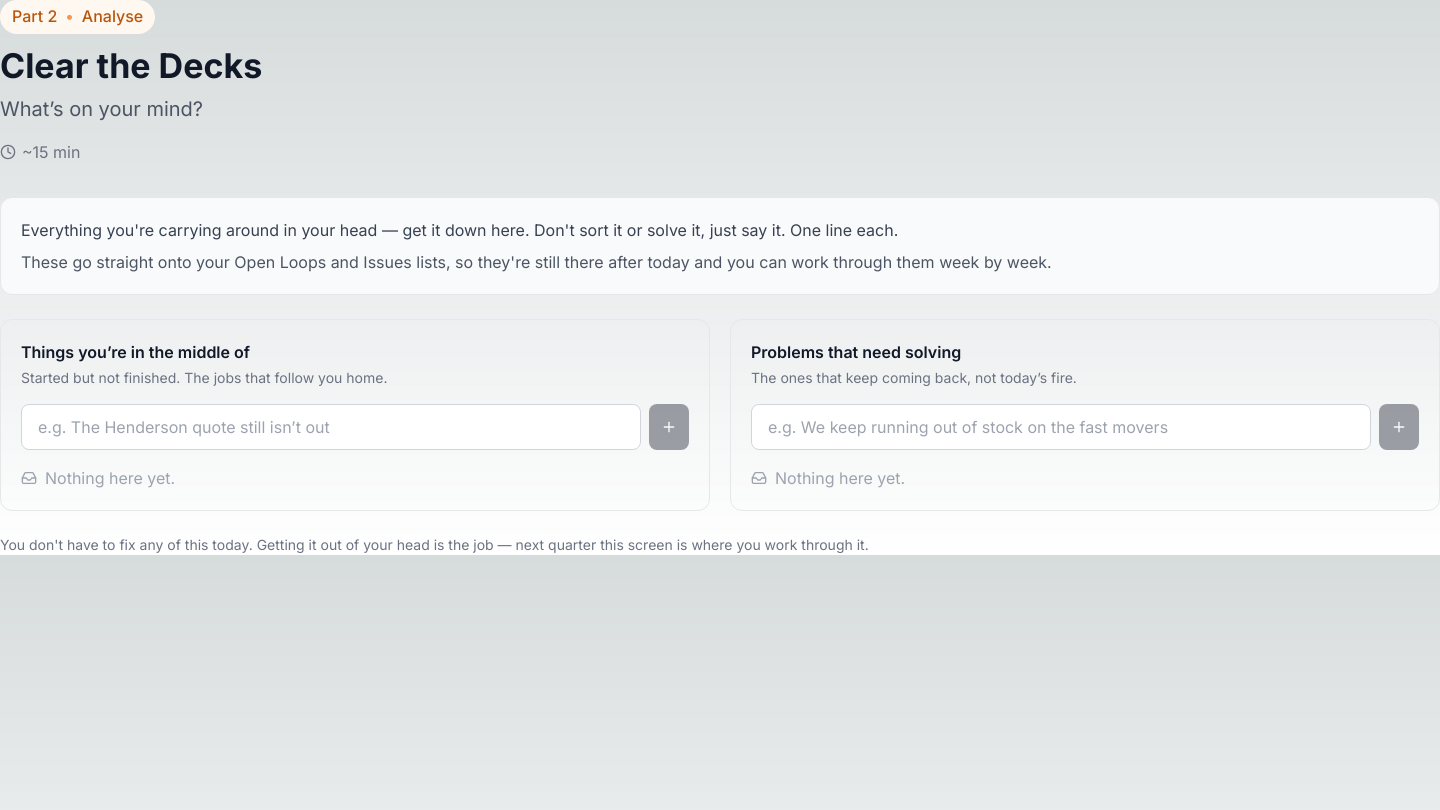
Test: step 5 on screen › keeps what they typed when the save fails, and says so
The width and height of the screenshot is (1440, 810).
Type "Something worth keeping" into the field with placeholder "e.g. The Henderson quote still isn’t out" at (331, 427), box left=21, top=404, right=641, bottom=450
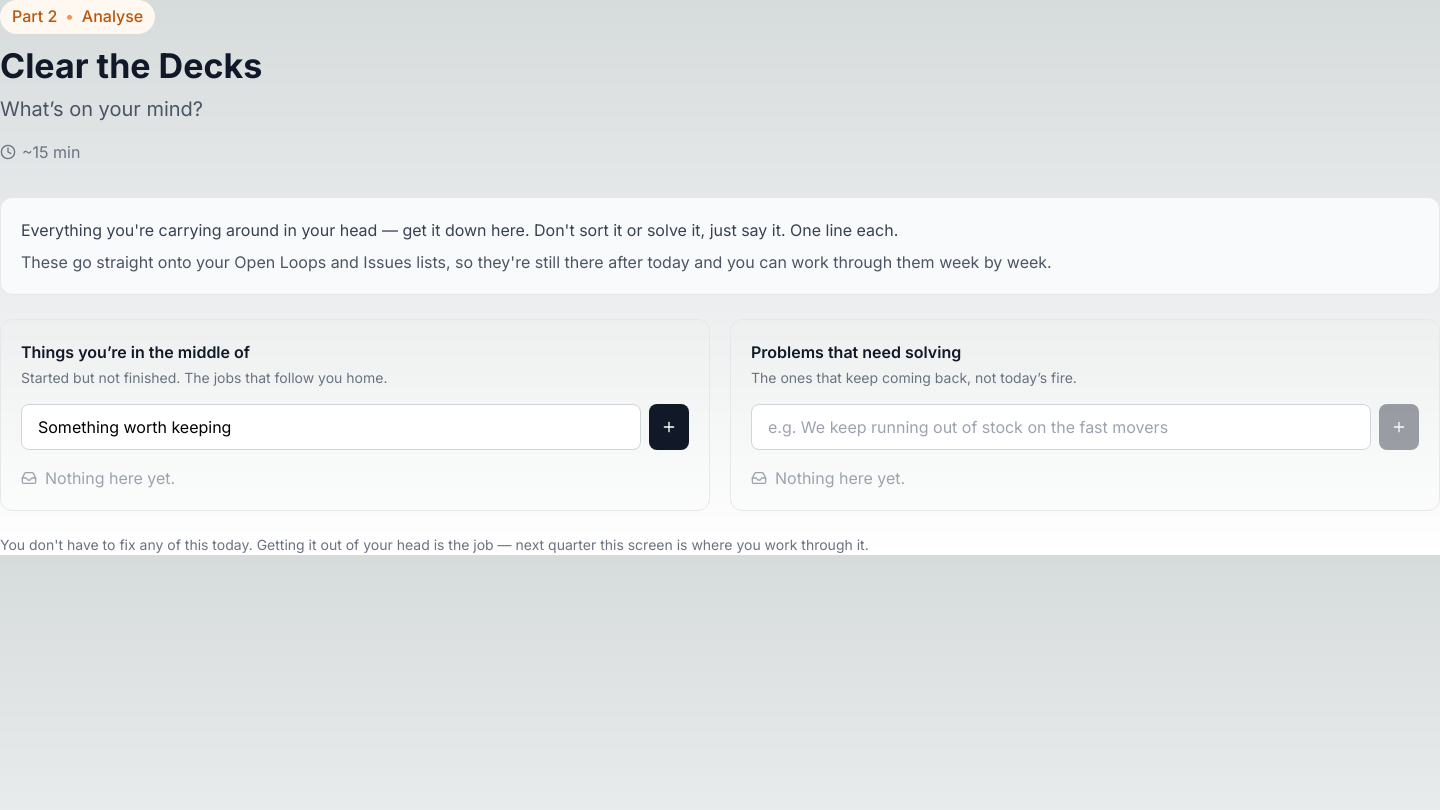
Click the button named "Add to Open Loops" at (669, 427), box left=649, top=404, right=689, bottom=450
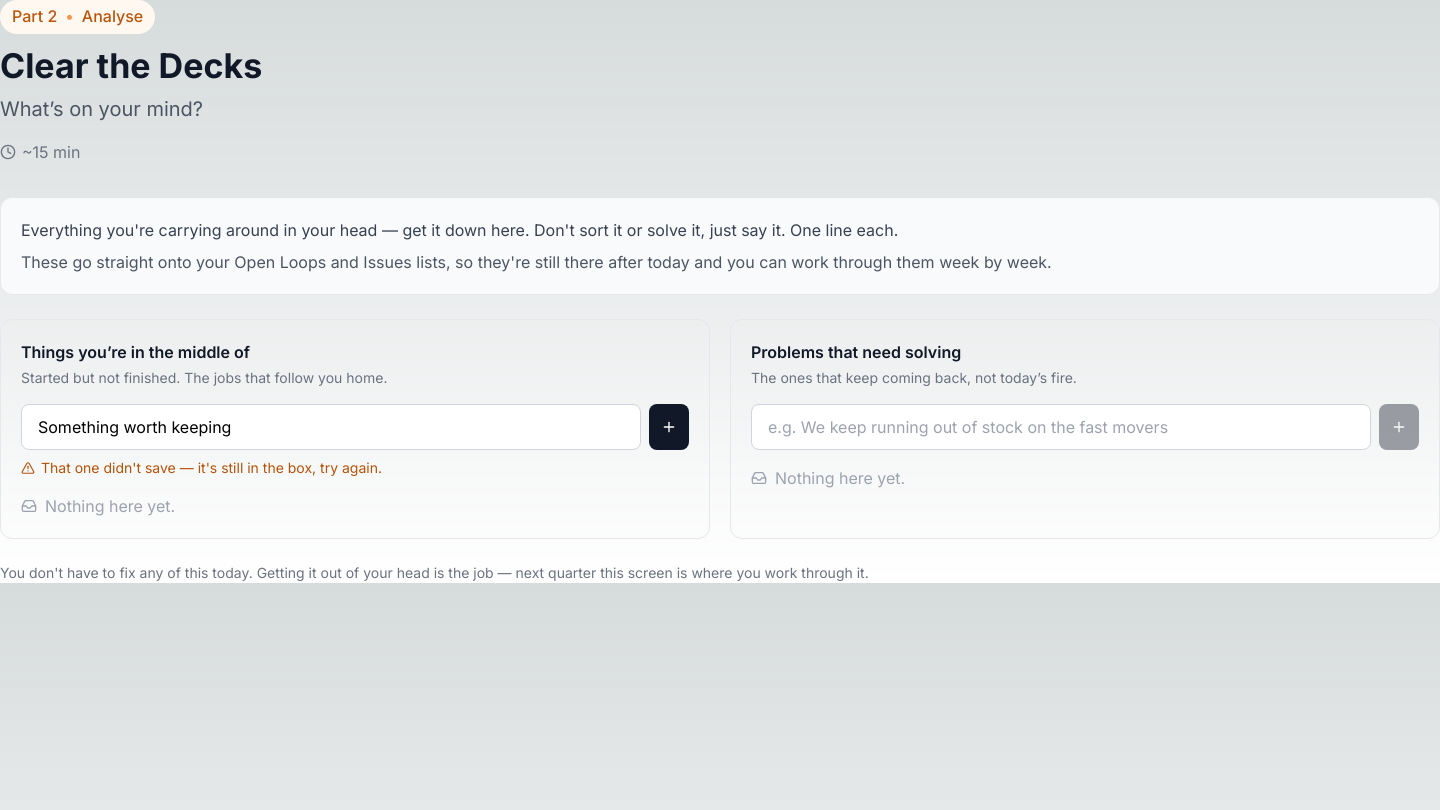
expect the text "That one didn't save — it's still in the box, try again." is shown: met, box left=21, top=459, right=382, bottom=476
